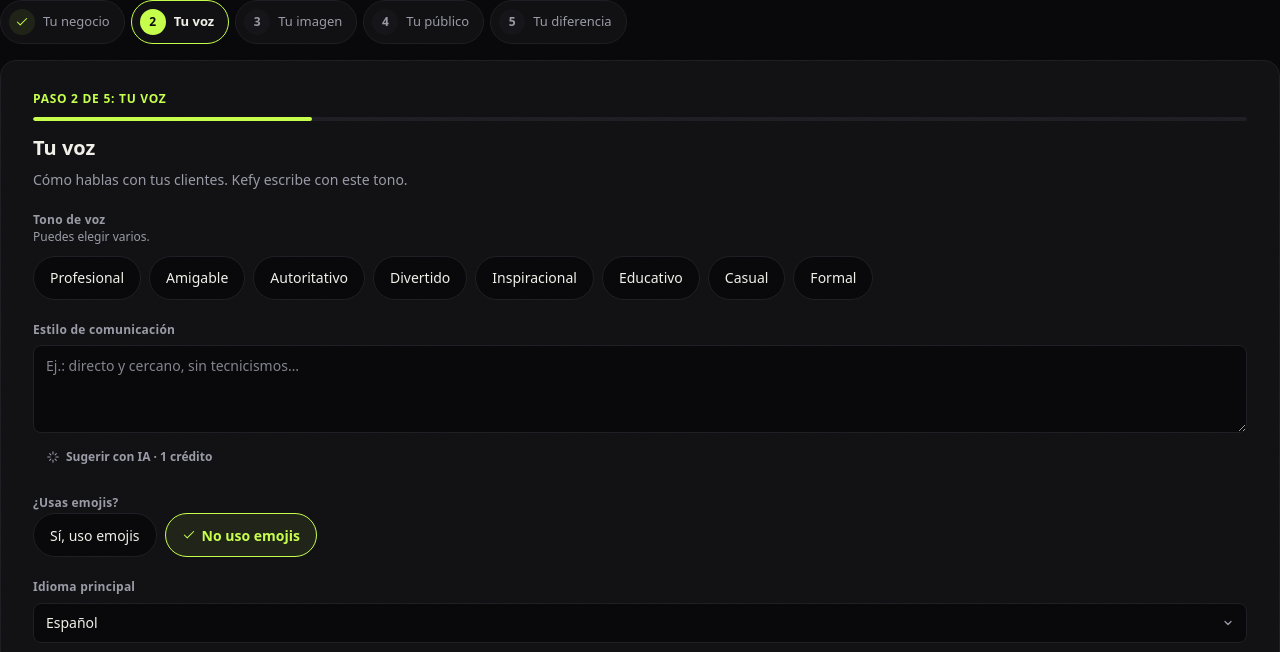
Test: BrandKitWizard › no pide sugerencias solo: únicamente con el botón que dice lo que cuesta
The image size is (1280, 652).
Check: the text "Paso 2 de 5: Tu voz" is shown, box [33,90,166,107]
Click the button with aria-label "Sugerir estilo de comunicación con IA (1 crédito)": (129, 458) [33,442,225,474]
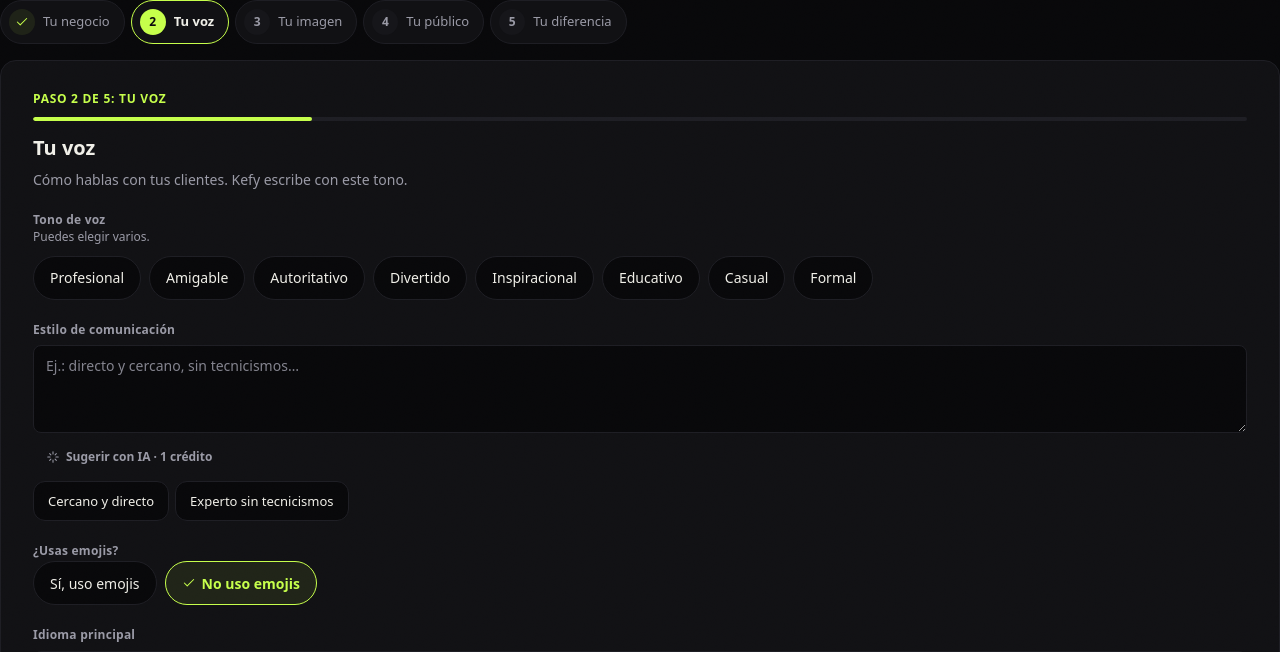
Click the button "Cercano y directo": (101, 502) [33,482,169,522]
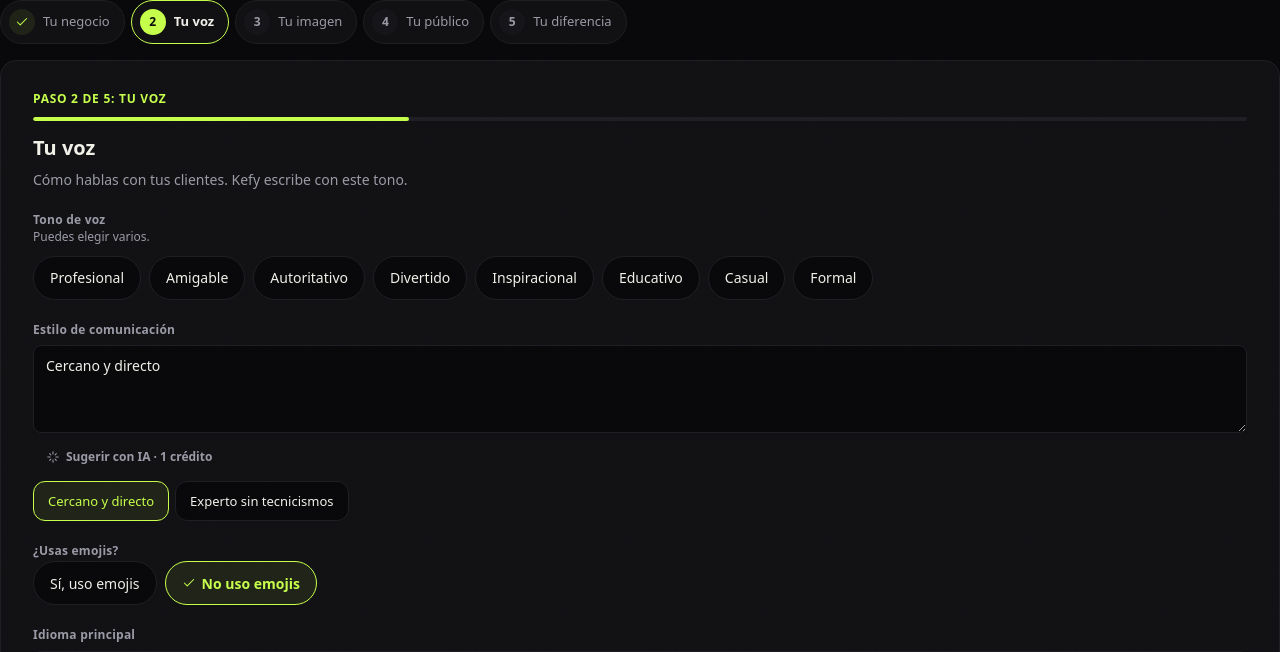
Check: the text box labelled "Estilo de comunicación" holds "Cercano y directo", box [33,346,1247,434]
